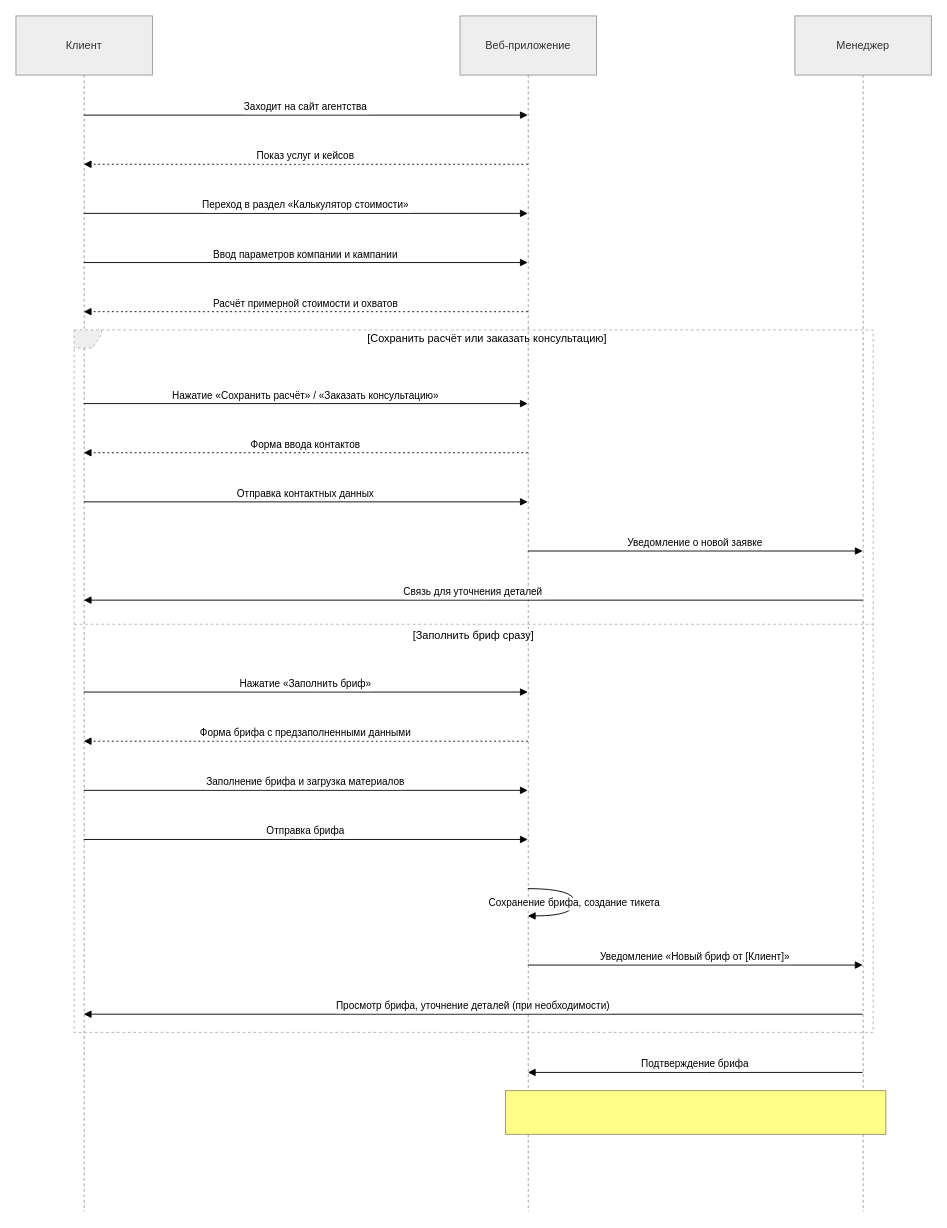
The diagram is 947 pixels wide and 1228 high, and some of its shapes have lost their labels. The centre of each missing label's shape, as x and y in pixels:
"alt" goes at [473,680].
"Далее – создание первого макета (существующая диаграмма)" goes at [695,1112].
